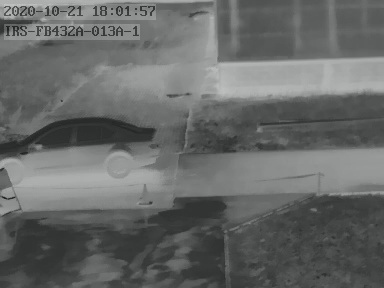vehicle: (1, 114, 158, 182)
